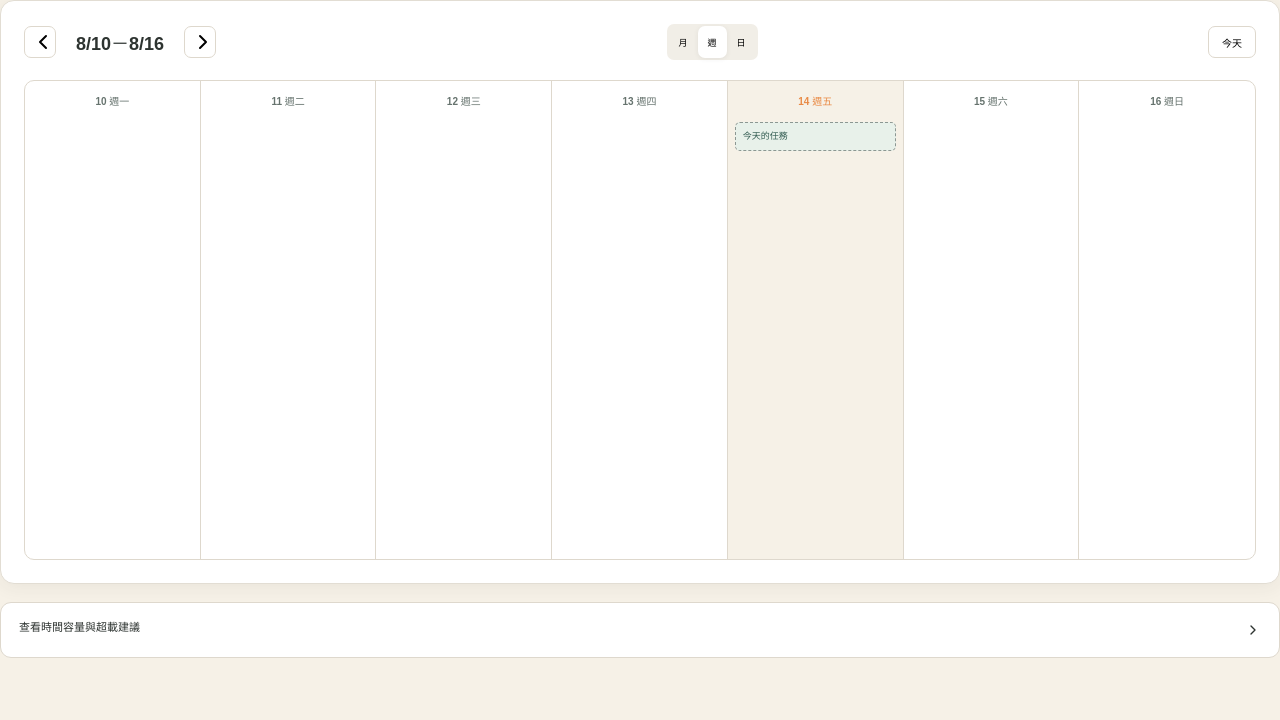
Test: CalendarPage › uses the current date and returns to today after navigation
Expected: the text "今天的任務" is shown, [735,122,896,151]
Step 1. Click the button named "下一個期間" → (200, 42), box [184,26,216,58]
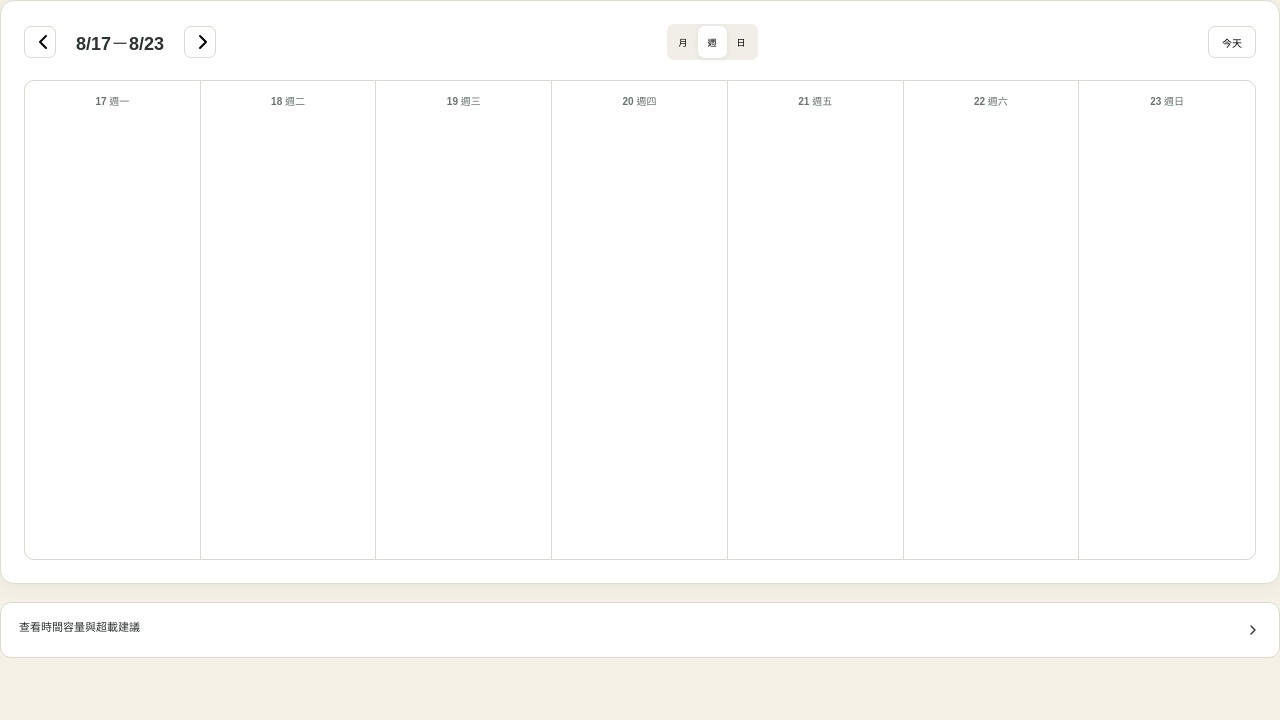
Expected: the text "今天的任務" is gone
Step 2. Click the button "今天" → (1232, 42), box [1208,26,1256,58]
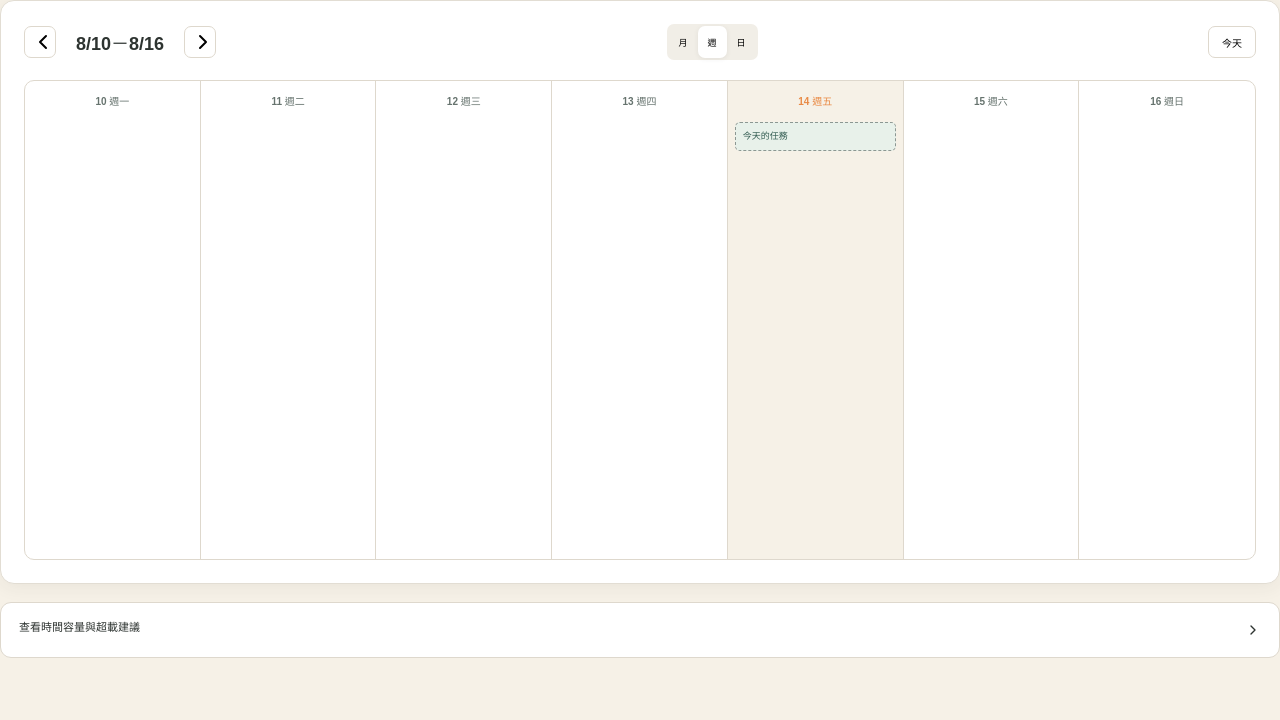
Expected: the text "今天的任務" is shown, [735,122,896,151]
